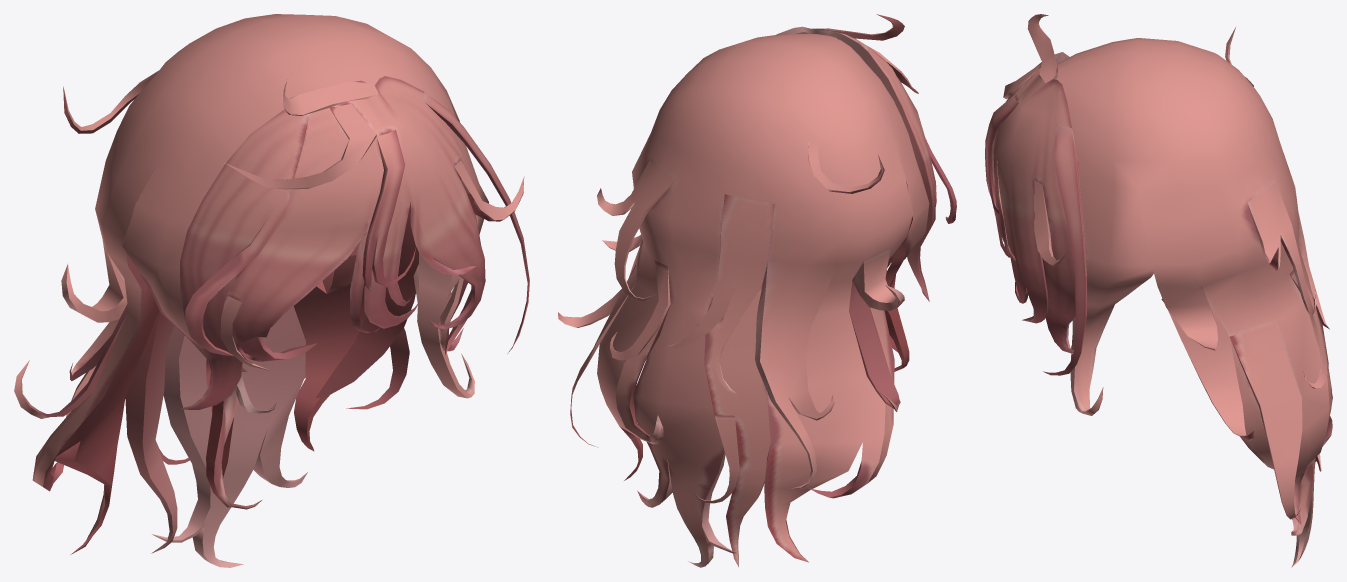
File: otohikos_custom_hair.glb
The picture shows the model from 3 angles, left to right: view 1: azimuth 30°, elevation 25°; view 2: azimuth 150°, elevation 25°; view 3: azimuth 270°, elevation 25°; orthographic projection. The views are drawn at different scales.
Visible parts, largest first — view 1: Otohiko Custom Wig; view 2: Otohiko Custom Wig; view 3: Otohiko Custom Wig.
Boxes of the visible parts, left/top/right/bottom form: Otohiko Custom Wig: left=14, top=14, right=529, bottom=567; Otohiko Custom Wig: left=558, top=14, right=956, bottom=567; Otohiko Custom Wig: left=985, top=14, right=1332, bottom=567.
Bounding box in the file's own units: 0.3367 × 0.4598 × 0.2815.
1 material, 1 textured.
